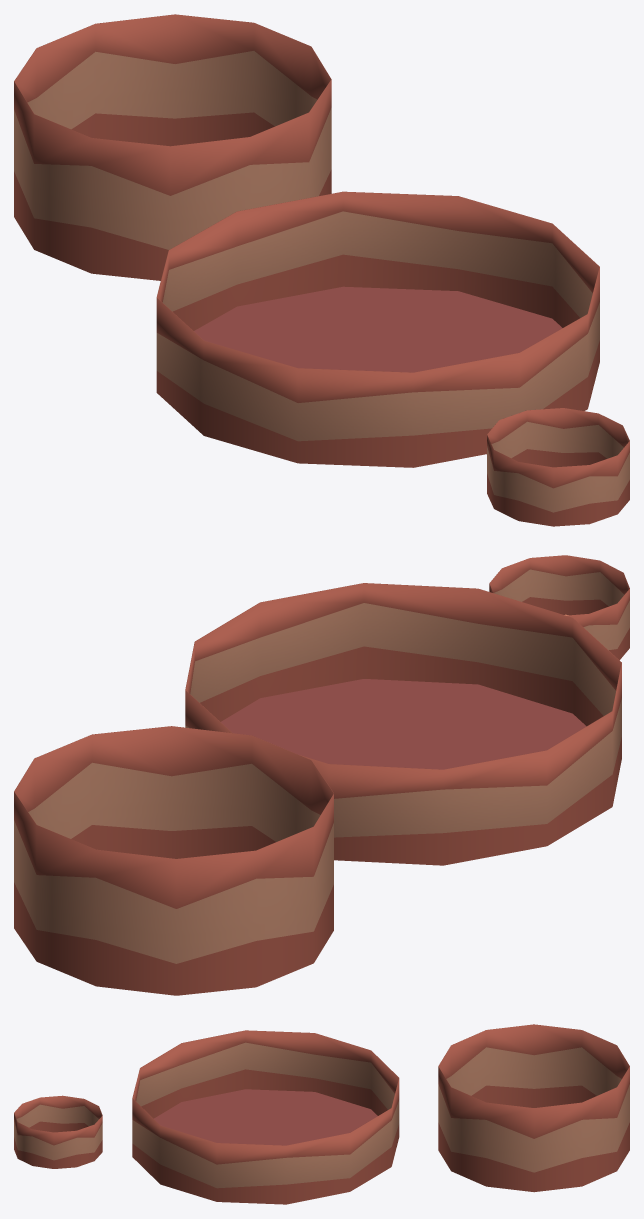
File: Platform 5 6 7.fbx
3 renders of one model, top to bottom at view 1: azimuth 30°, elevation 25°; view 2: azimuth 150°, elevation 25°; view 3: azimuth 270°, elevation 25°, orthographic. The views are drawn at different scales.
Parts seen in each view (by area): view 1: Platform.007, Platform.005, Platform.006; view 2: Platform.007, Platform.005, Platform.006; view 3: Platform.007, Platform.005, Platform.006.
Boxes of the visible parts, bbox=[...] form: Platform.007: bbox=[156, 191, 599, 467]; Platform.005: bbox=[14, 14, 331, 280]; Platform.006: bbox=[487, 408, 629, 526]; Platform.007: bbox=[185, 583, 621, 865]; Platform.005: bbox=[14, 726, 333, 995]; Platform.006: bbox=[489, 555, 629, 660]; Platform.007: bbox=[132, 1030, 399, 1204]; Platform.005: bbox=[438, 1024, 629, 1192]; Platform.006: bbox=[14, 1095, 102, 1168].
Bounding box in the file's own units: 2849 × 967 × 6429.
Materials: 1 (1 with a texture image).
